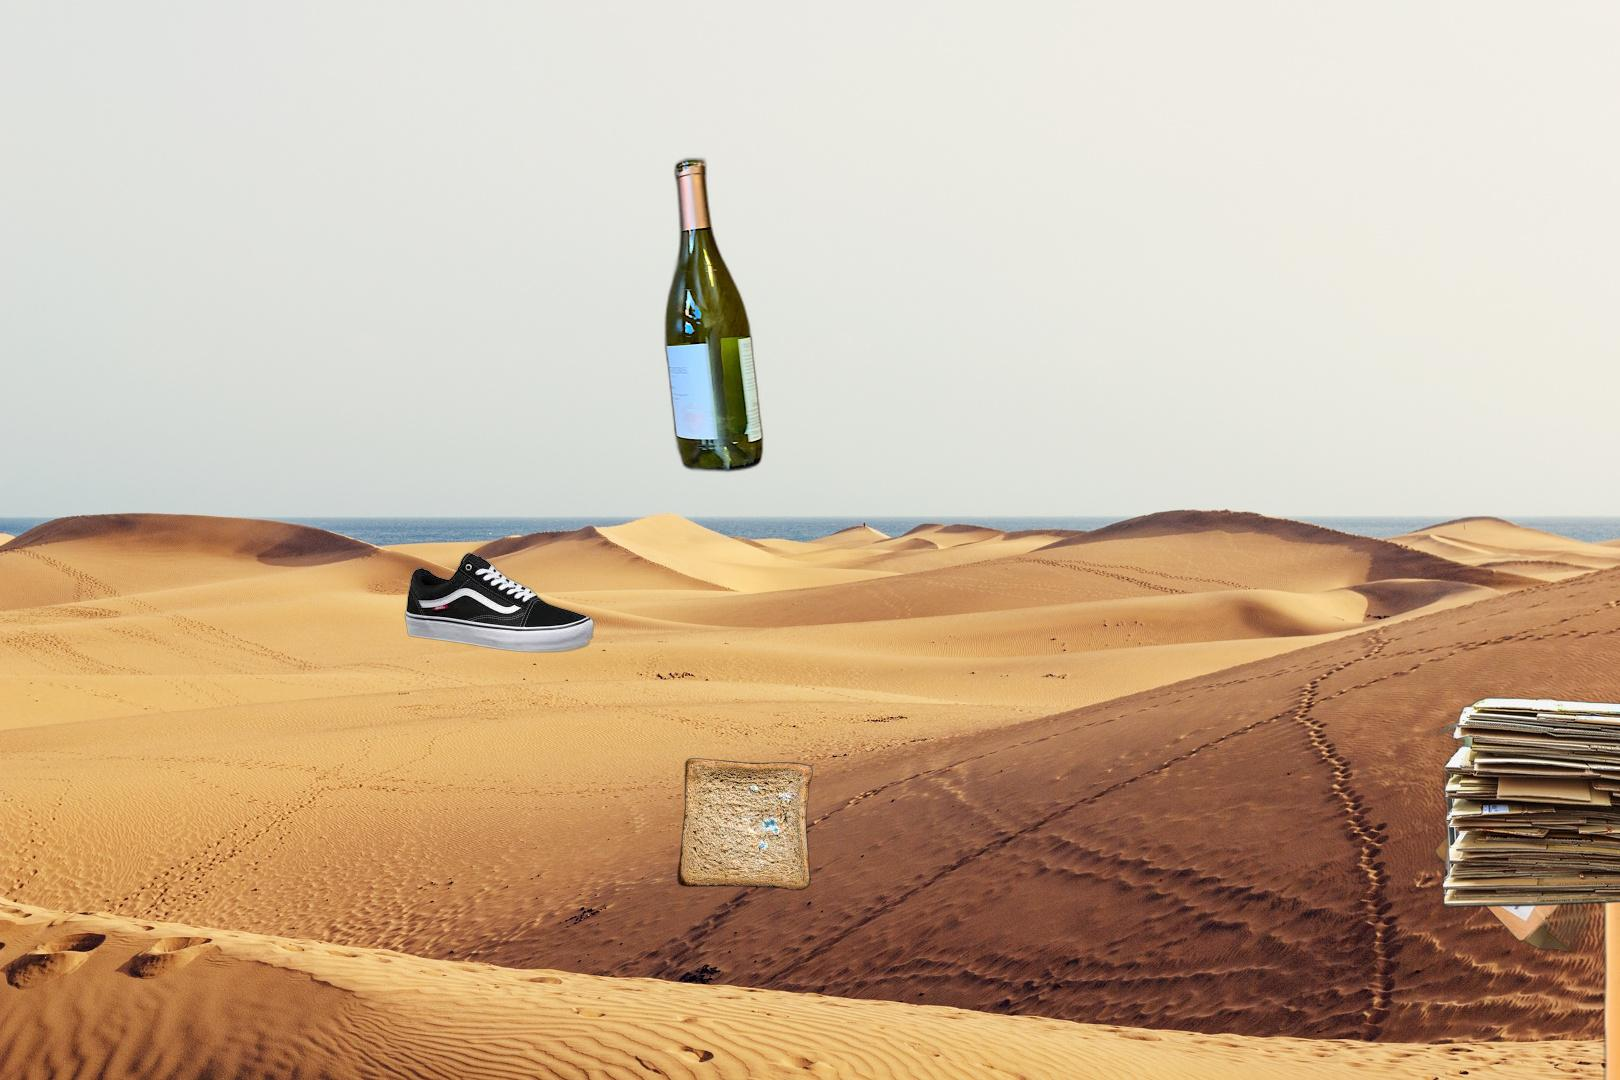battery: (1377, 576, 1620, 1080)
biological: (675, 755, 815, 893)
glass: (661, 152, 768, 477)
paper-bag: (1432, 673, 1620, 956)
shoes: (403, 550, 597, 655)
trashbox-cardboard: (1424, 695, 1620, 928)
